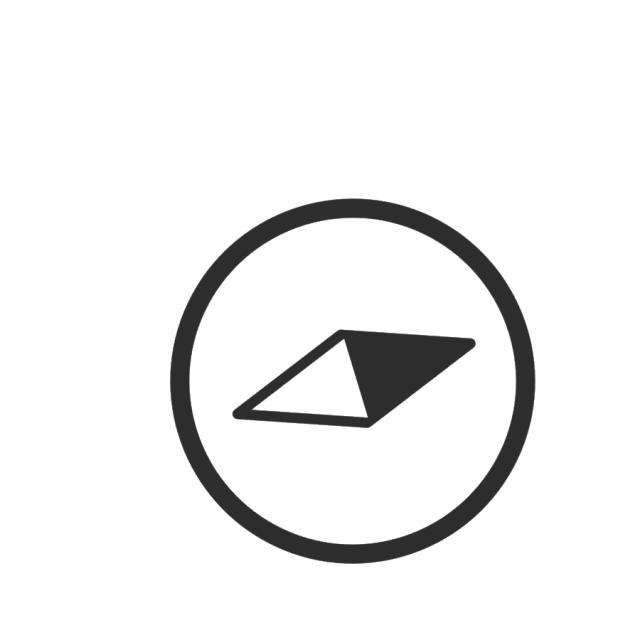compass: (166, 195, 541, 571)
